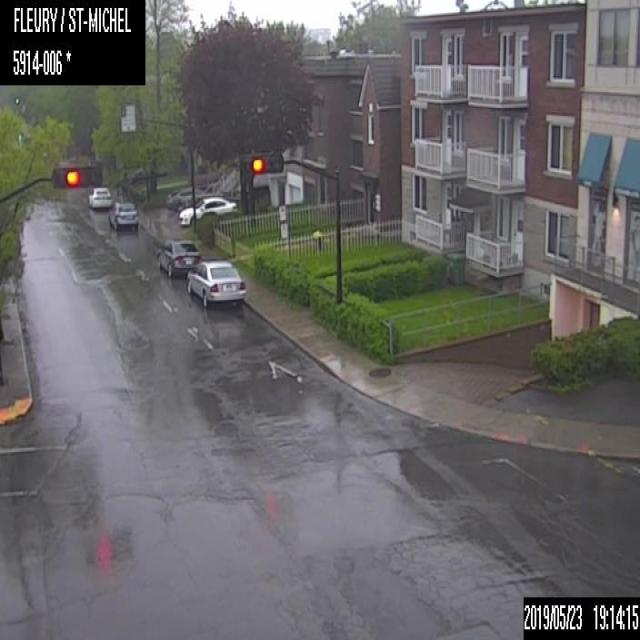vehicle: (185, 258, 247, 309), (178, 195, 236, 228), (156, 238, 201, 277), (109, 202, 138, 234), (166, 187, 204, 210), (86, 186, 112, 208)
